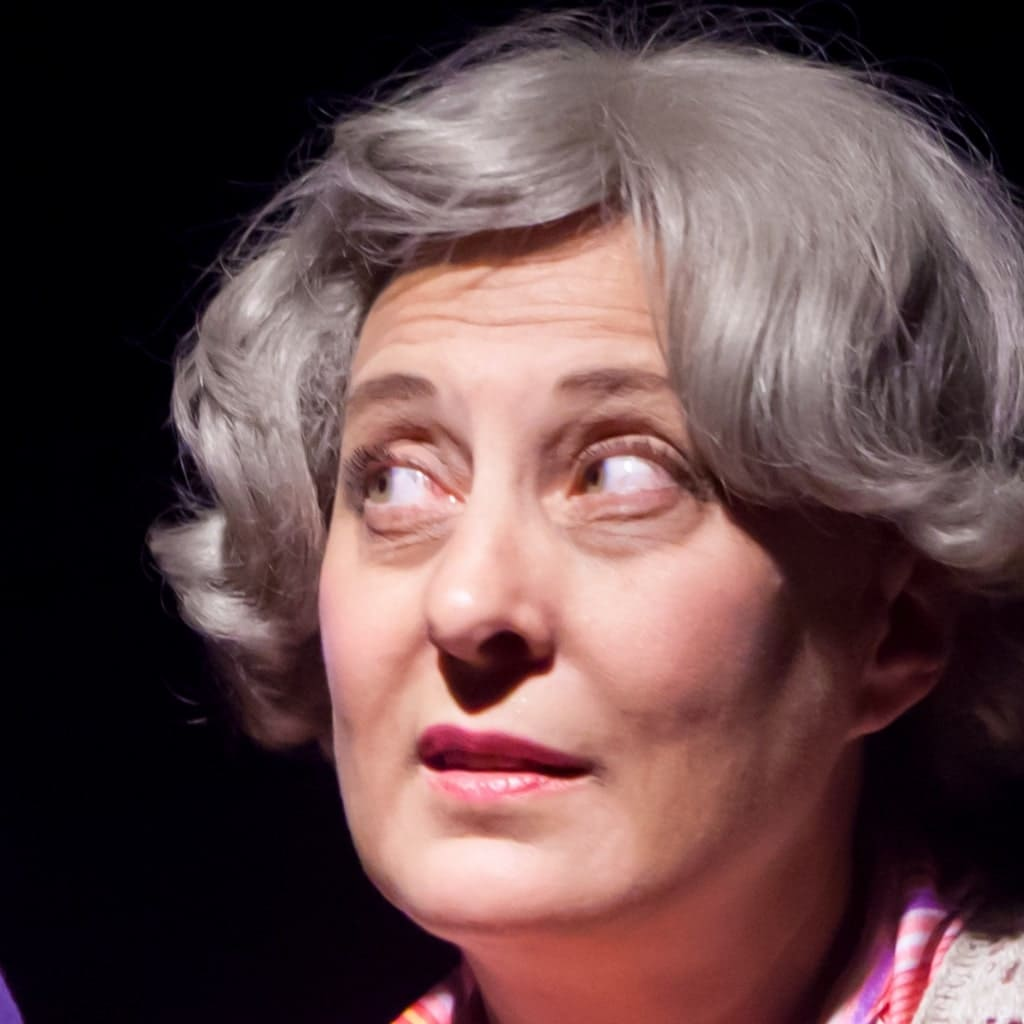without_mask: (307, 268, 789, 900)
